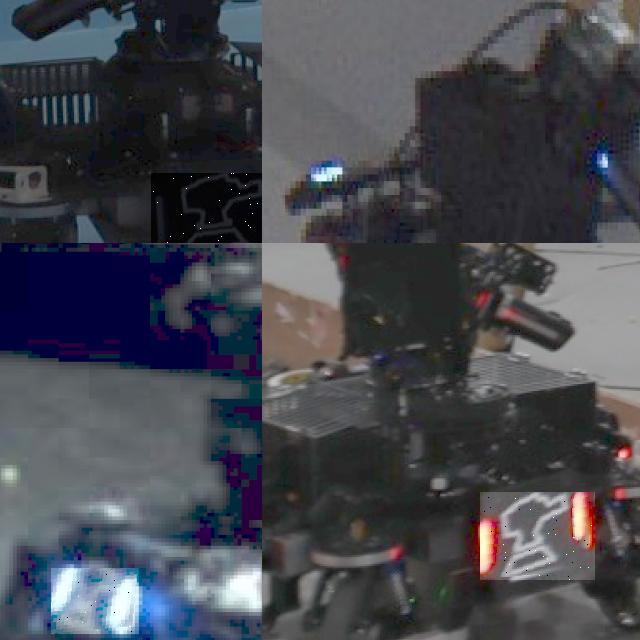Bs: (150, 173, 262, 243), (51, 568, 139, 634)
Rs: (480, 492, 595, 580)
